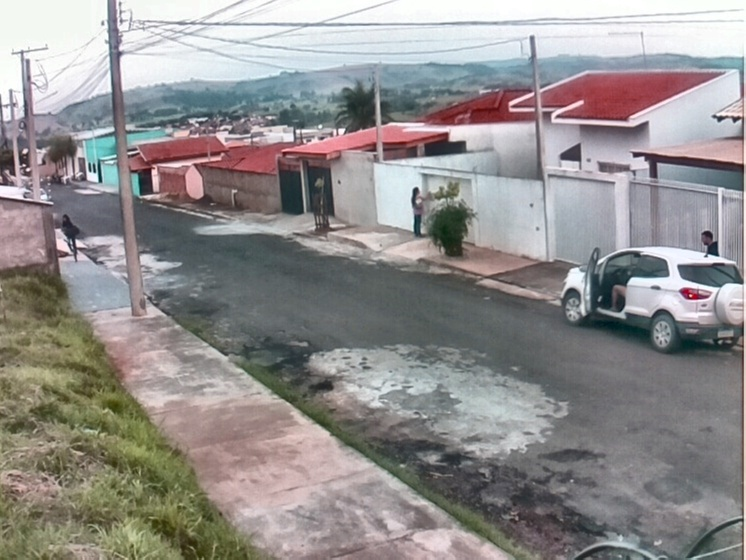person: (410, 186, 431, 236), (60, 213, 79, 256), (698, 228, 723, 258)
